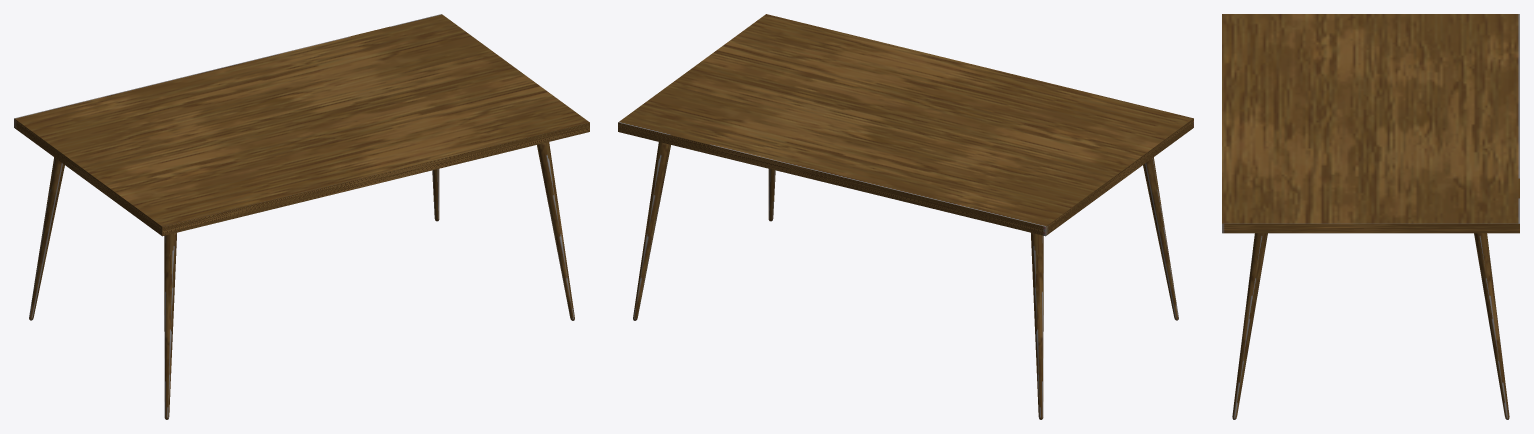
The model's file is table.glb.
The picture shows the model from 3 angles, left to right: view 1: azimuth 30°, elevation 25°; view 2: azimuth 150°, elevation 25°; view 3: azimuth 270°, elevation 25°; orthographic projection.
Visible parts, largest first — view 1: tabletop, tablelegs; view 2: tabletop, tablelegs; view 3: tabletop, tablelegs.
Part boxes in pixels (<box>): tabletop: <box>14,14,589,236</box>; tablelegs: <box>29,142,574,419</box>; tabletop: <box>618,14,1193,236</box>; tablelegs: <box>633,142,1178,419</box>; tabletop: <box>1222,14,1519,233</box>; tablelegs: <box>1232,233,1509,419</box>.
Size of the model in its own units: 2 by 0.894 by 1.2.
Materials: 1 (1 with a texture image).
